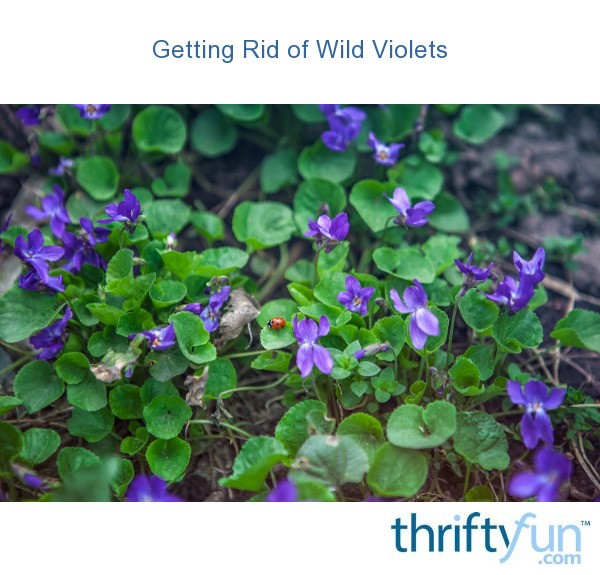violet: (482, 378, 574, 455), (486, 252, 557, 325), (382, 177, 446, 253), (268, 309, 341, 374), (393, 276, 453, 352), (17, 315, 102, 368), (101, 188, 160, 244), (62, 223, 115, 277), (329, 275, 383, 324), (22, 232, 66, 291), (29, 191, 81, 240), (314, 208, 354, 249)
